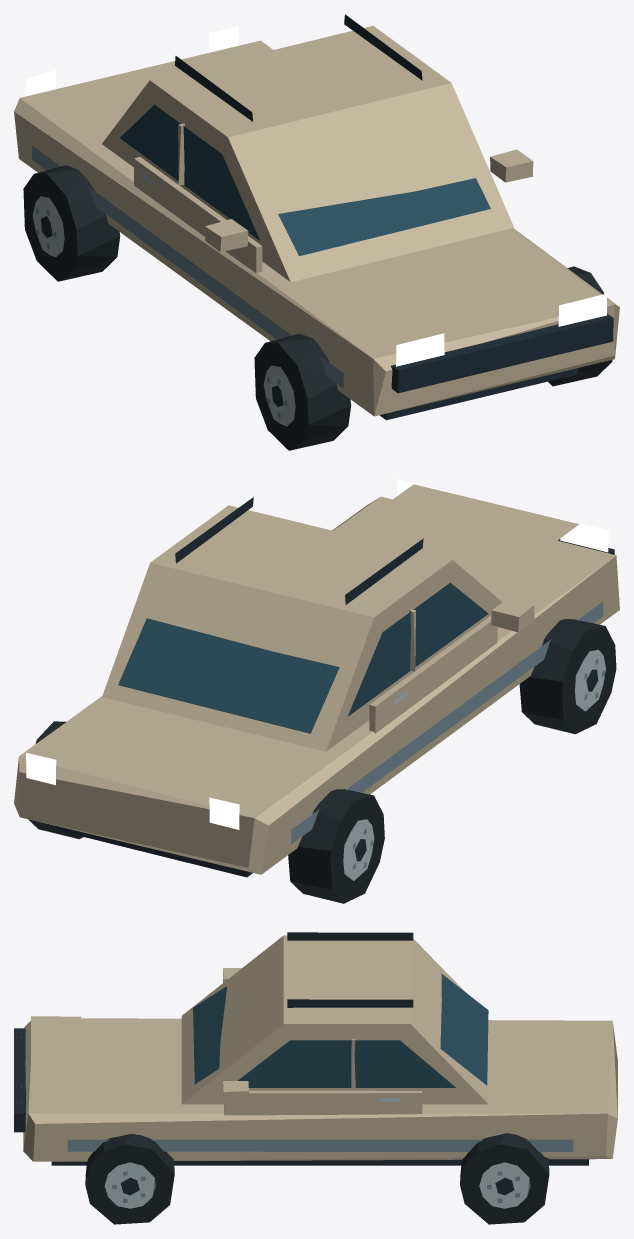
Rendered from road-suv.lod2.glb.
3 views of the same model, one above another, from view 1: azimuth 30°, elevation 25°; view 2: azimuth 150°, elevation 25°; view 3: azimuth 270°, elevation 25° (orthographic). The views are drawn at different scales.
Visible parts, largest first — view 1: road-suv__body, road-suv__door_-1, road-suv__wheel_steer_0_l, road-suv__wheel_steer_1_l, road-suv__wheel_steer_0_r; view 2: road-suv__body, road-suv__door_-1, road-suv__wheel_steer_0_l, road-suv__wheel_steer_1_l; view 3: road-suv__body, road-suv__door_1, road-suv__wheel_steer_1_r, road-suv__wheel_steer_0_r.
Boxes of the visible parts, x1,y1,x2,y2 form: road-suv__body: (14,14,619,420); road-suv__door_-1: (120,104,262,273); road-suv__wheel_steer_0_l: (254,334,351,450); road-suv__wheel_steer_1_l: (23,165,120,281); road-suv__wheel_steer_0_r: (548,266,612,386); road-suv__body: (14,479,619,877); road-suv__door_-1: (347,582,497,733); road-suv__wheel_steer_0_l: (519,619,616,734); road-suv__wheel_steer_1_l: (288,789,384,903); road-suv__body: (14,932,619,1165); road-suv__door_1: (224,1039,455,1115); road-suv__wheel_steer_1_r: (460,1133,549,1224); road-suv__wheel_steer_0_r: (85,1134,174,1224).
Bounding box in the file's own units: 2.24 × 1.66 × 4.59.
